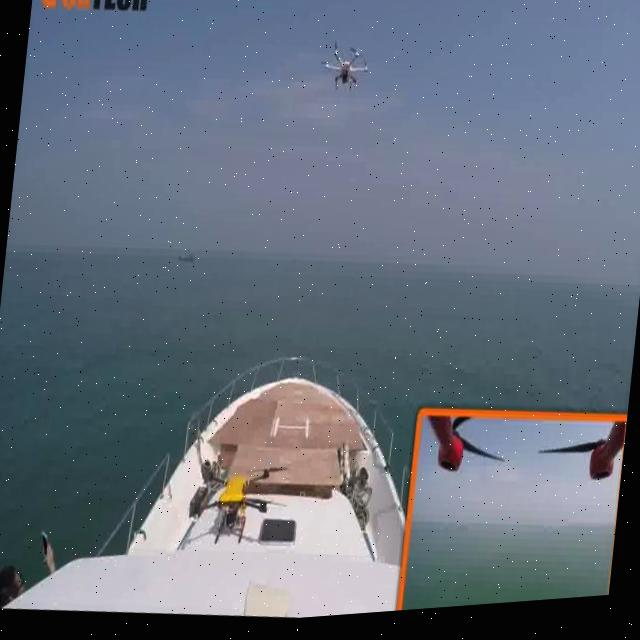drone: (318, 41, 370, 102)
